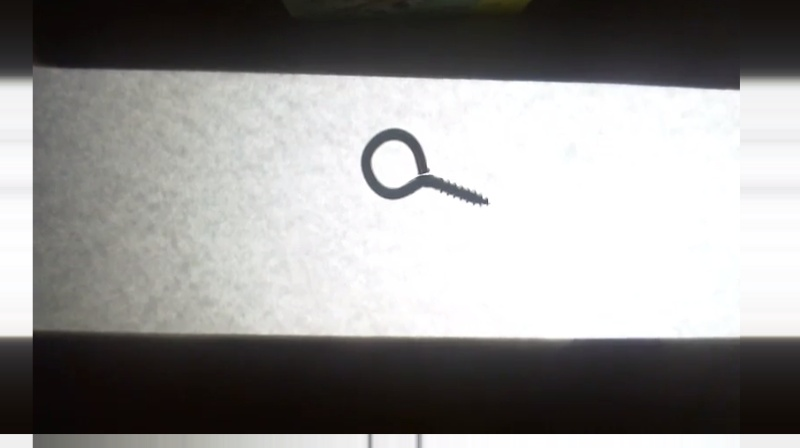O001: (356, 125, 493, 211)
